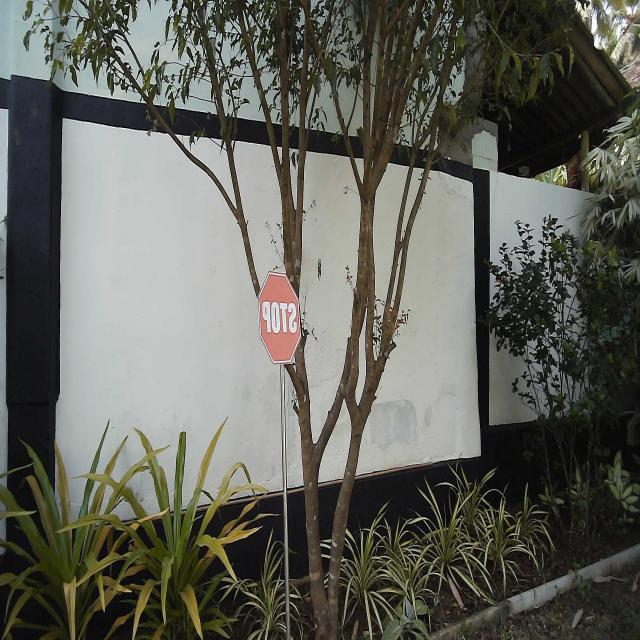stop: (256, 268, 304, 368)
